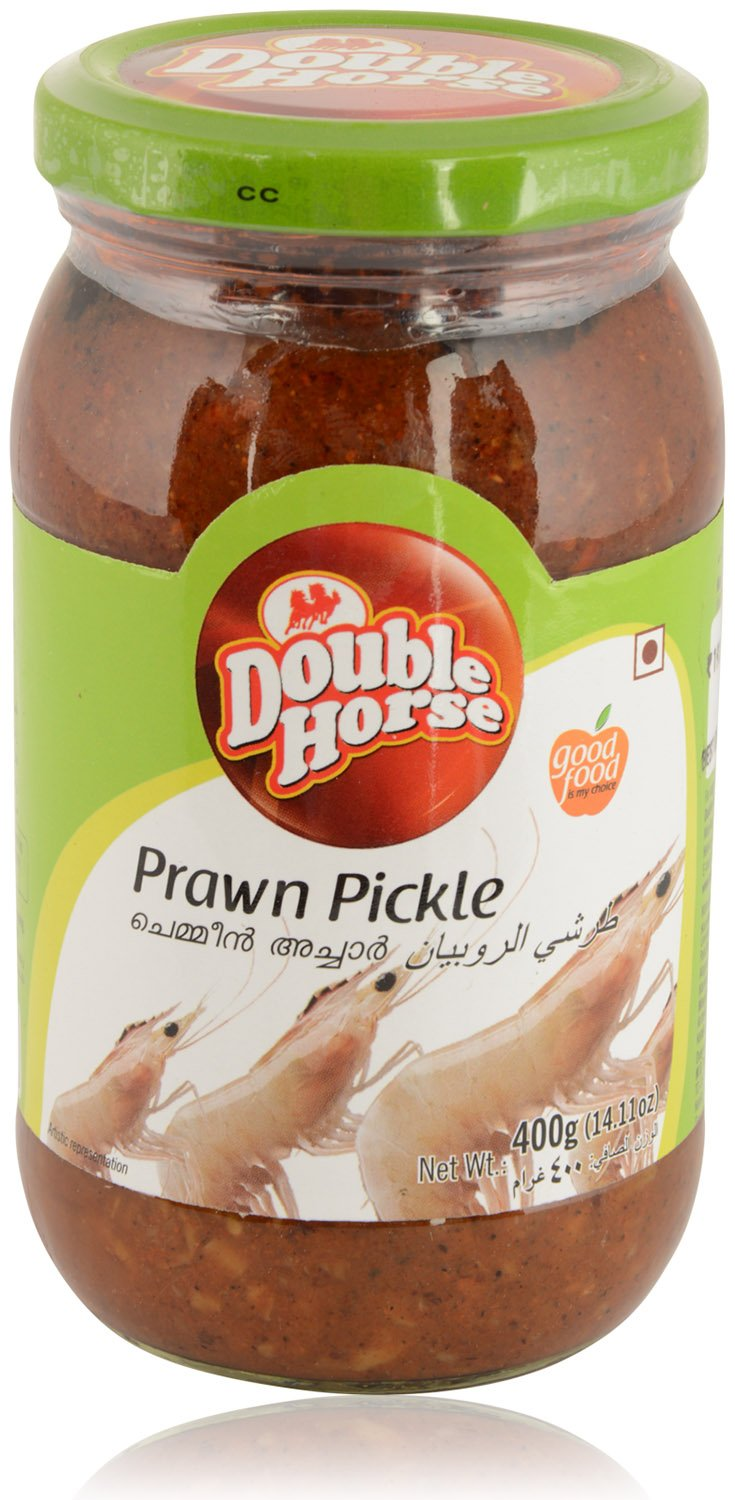nonveg_red: (629, 618, 668, 681)
